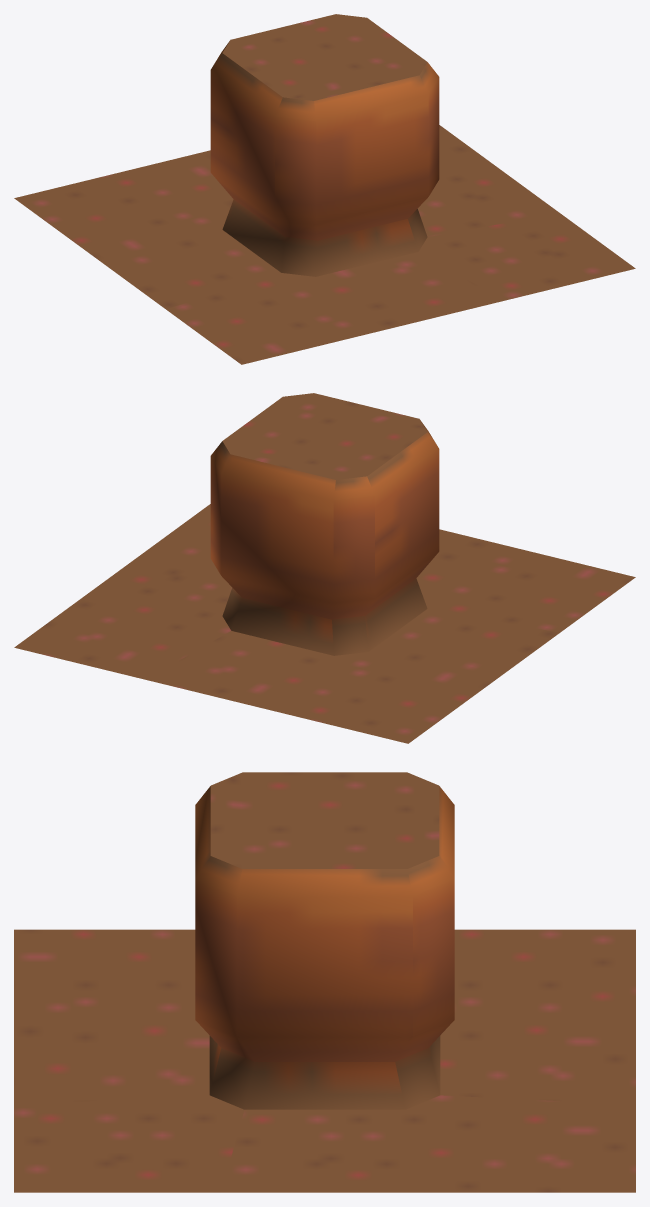
Rendered from canion_step_column_v01.fbx.
3 views of the same model, one above another, from view 1: azimuth 30°, elevation 25°; view 2: azimuth 150°, elevation 25°; view 3: azimuth 270°, elevation 25° (orthographic). The views are drawn at different scales.
Visible parts, largest first — view 1: canion_step_column_v01; view 2: canion_step_column_v01; view 3: canion_step_column_v01.
Boxes of the visible parts, bbox=[...] form: canion_step_column_v01: bbox=[14, 14, 635, 364]; canion_step_column_v01: bbox=[14, 393, 635, 743]; canion_step_column_v01: bbox=[14, 772, 635, 1192].
Size of the model in its own units: 600 by 256 by 600.
